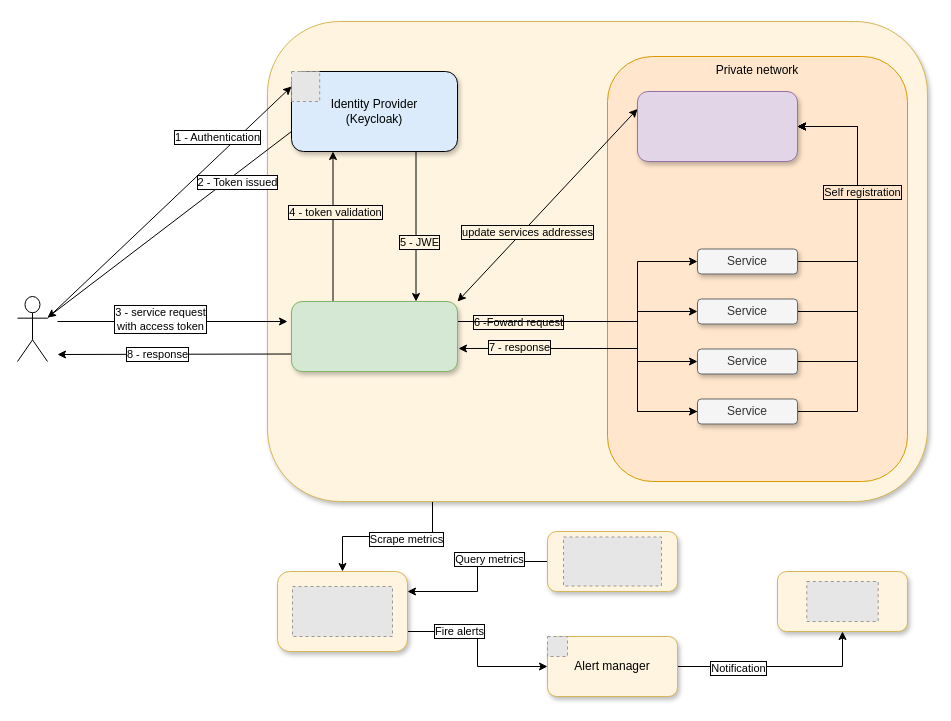
The diagram is 951 pixels wide and 721 high, and some of its shapes have lost their labels. Grey dashed boxes stand in for pictures. Each missing label, with the centre of its shape:
Service Discovery (Spring Netflix Eureka): the point at 718,127
Spring Cloud Gateway: the point at 375,337
User: the point at 32,329
